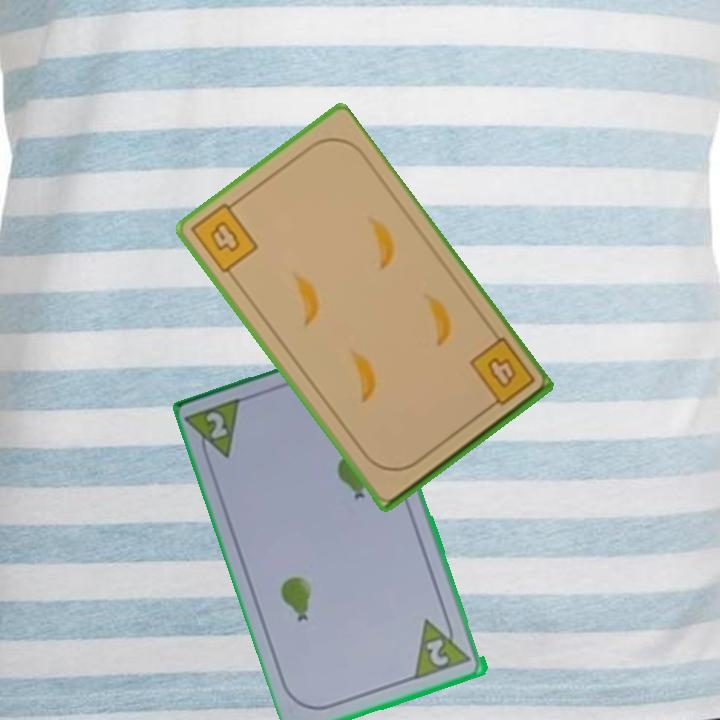2p: (412, 610, 475, 682), (203, 408, 232, 443)
4b: (187, 195, 261, 277), (465, 334, 538, 415)
